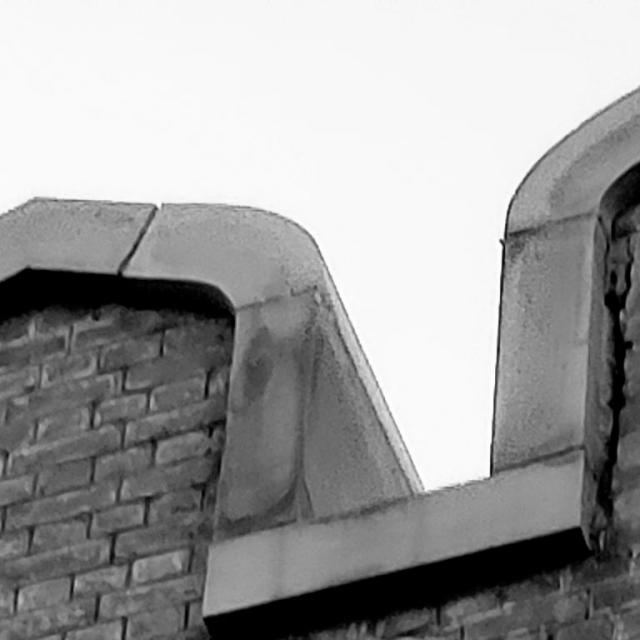crack: (603, 237, 635, 515)
